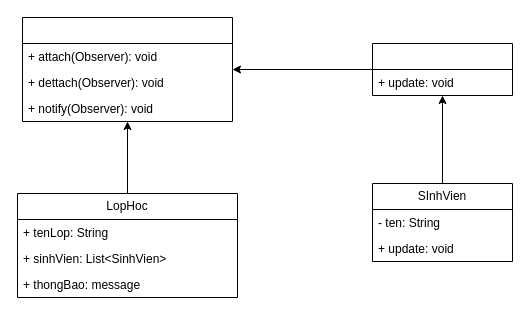
Some shapes in this 530 by 318 pixel diagram are drawn without their labels. Each missing label, with the box of its shape:
Observer: (372, 42, 512, 96)
Subject: (22, 16, 232, 122)
